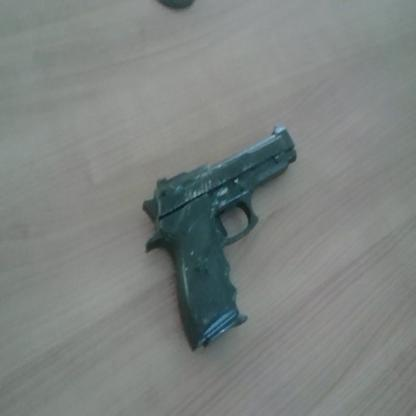handgun: (136, 136, 350, 394)
